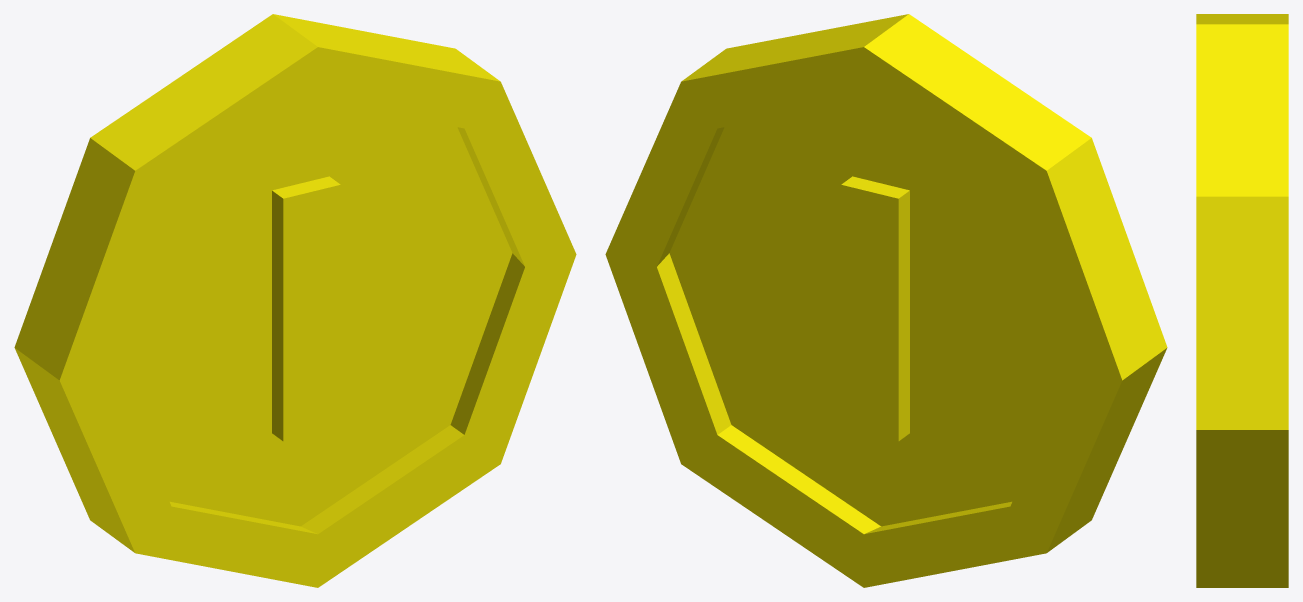
The model's file is coins.fbx.
The picture shows the model from 3 angles, left to right: view 1: azimuth 30°, elevation 25°; view 2: azimuth 150°, elevation 25°; view 3: azimuth 270°, elevation 25°; orthographic projection. The views are drawn at different scales.
Visible parts, largest first — view 1: Cylinder; view 2: Cylinder; view 3: Cylinder.
Part boxes in pixels (left/top/right/bottom): Cylinder: left=14, top=14, right=576, bottom=587; Cylinder: left=605, top=14, right=1167, bottom=587; Cylinder: left=1196, top=14, right=1288, bottom=587.
Bounding box in the file's own units: 200 × 200 × 30.25.
